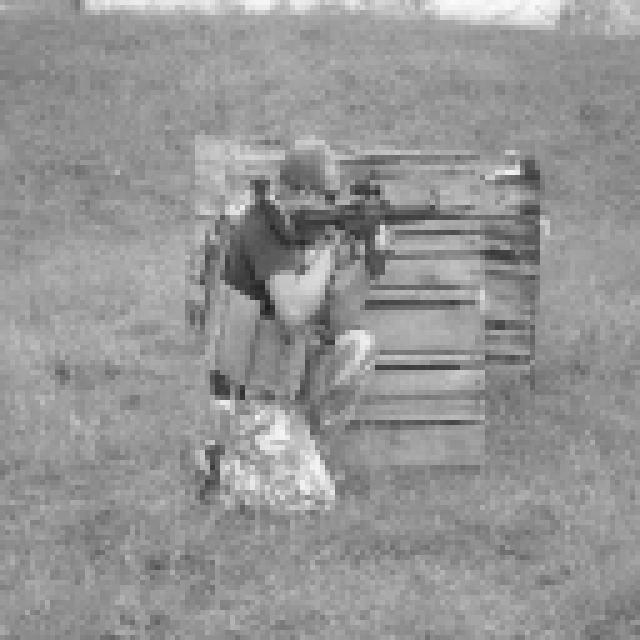Rifle: (282, 148, 478, 294)
